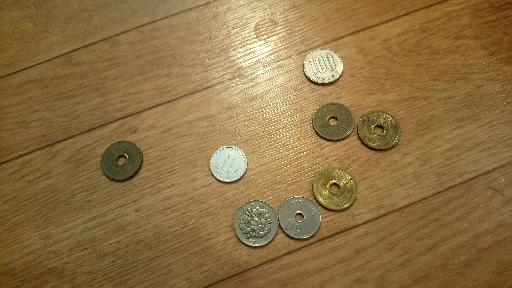100yen: (235, 201, 278, 247), (304, 49, 342, 84)
1yen: (210, 146, 246, 182)
50yen: (278, 196, 321, 240)
5yen: (312, 167, 357, 211), (100, 140, 143, 182), (357, 110, 400, 150), (312, 102, 354, 141)
